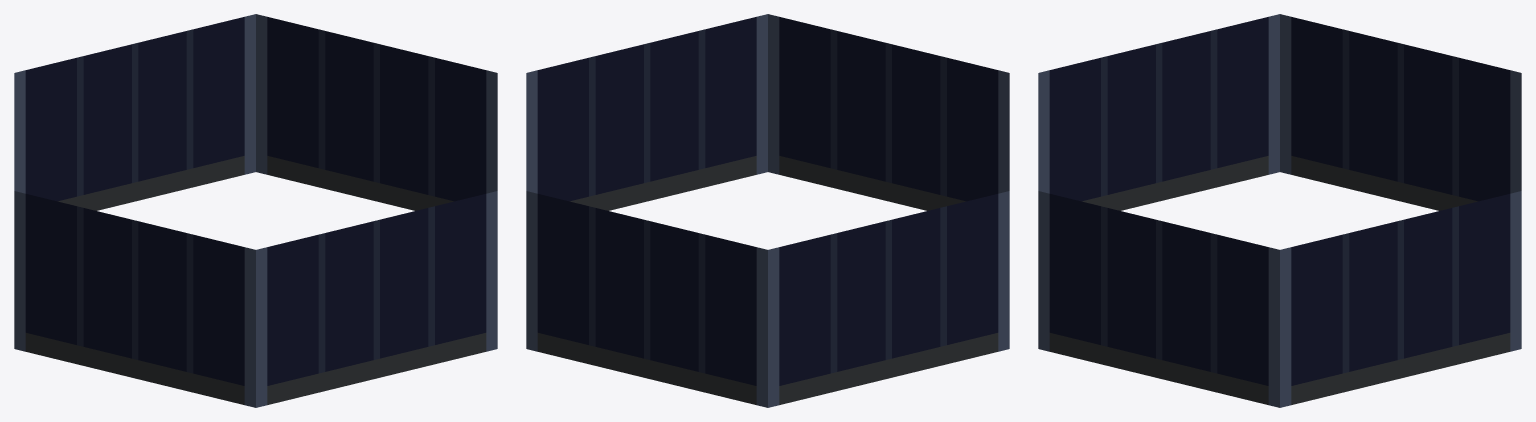
File: TB_CITY_Skysc_H_BodyA_Blue.FBX
The picture shows the model from 3 angles, left to right: view 1: azimuth 30°, elevation 25°; view 2: azimuth 150°, elevation 25°; view 3: azimuth 270°, elevation 25°; orthographic projection.
Visible parts, largest first — view 1: TB_CITY_Skysc_H_BodyA_Blue; view 2: TB_CITY_Skysc_H_BodyA_Blue; view 3: TB_CITY_Skysc_H_BodyA_Blue.
Part boxes in pixels (box(x1,y1,x2,y2)): TB_CITY_Skysc_H_BodyA_Blue: box(14, 14, 497, 407); TB_CITY_Skysc_H_BodyA_Blue: box(526, 14, 1009, 407); TB_CITY_Skysc_H_BodyA_Blue: box(1038, 14, 1521, 407).
Bounding box in the file's own units: 16 × 5 × 13.86.
